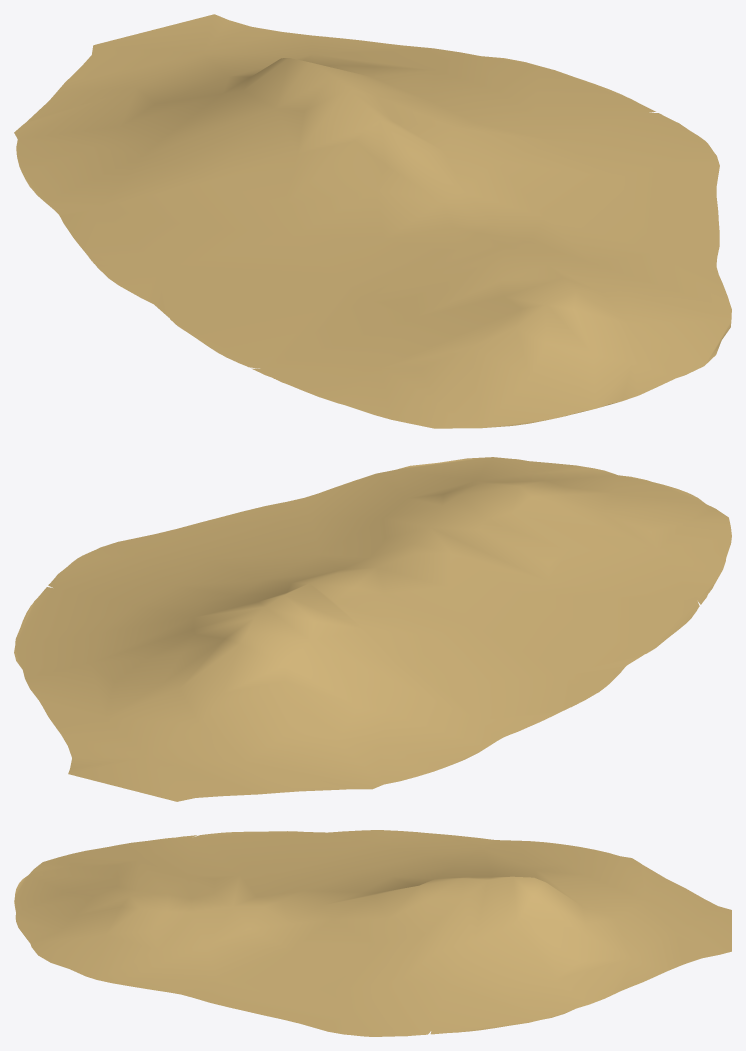
The model's file is LargeDune01.fbx.
The picture shows the model from 3 angles, top to bottom: view 1: azimuth 30°, elevation 25°; view 2: azimuth 150°, elevation 25°; view 3: azimuth 270°, elevation 25°; orthographic projection. The views are drawn at different scales.
Visible parts, largest first — view 1: LargeDune01_MeshRaw; view 2: LargeDune01_MeshRaw; view 3: LargeDune01_MeshRaw.
Part boxes in pixels (x1,y1,x2,y2): LargeDune01_MeshRaw: [14, 14, 731, 428]; LargeDune01_MeshRaw: [14, 457, 731, 801]; LargeDune01_MeshRaw: [14, 830, 731, 1036].
Size of the model in its own units: 0.6225 by 0.0799 by 0.913.
